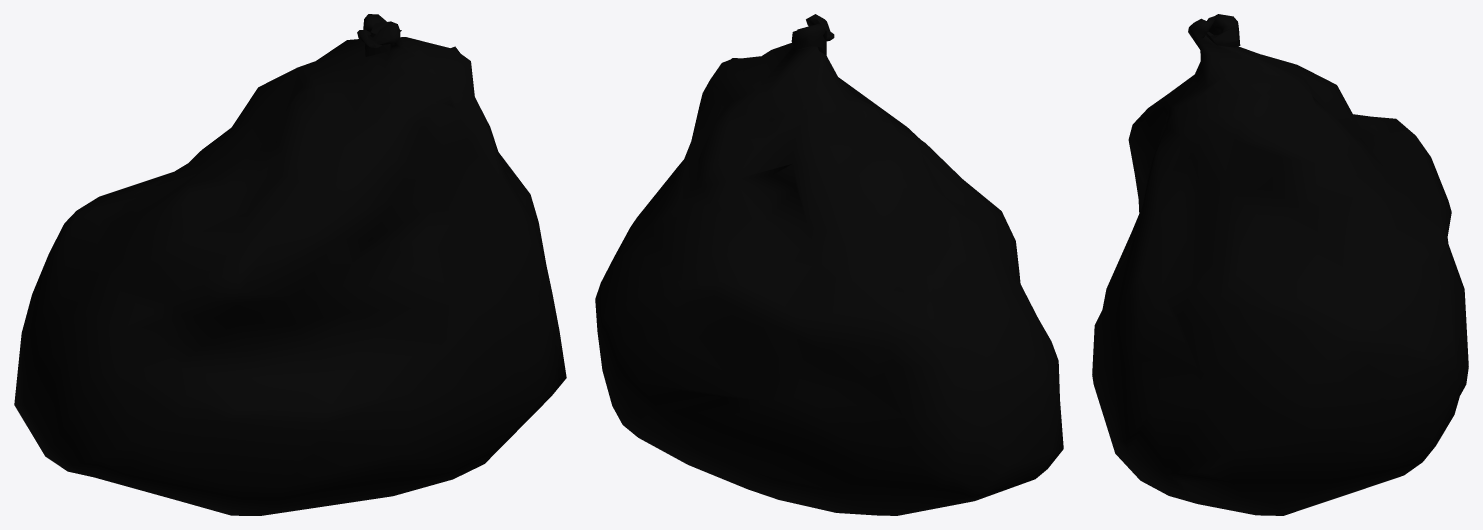
File: SM_Env_TrashBags .fbx
3 views of the same model, side by side, from view 1: azimuth 30°, elevation 25°; view 2: azimuth 150°, elevation 25°; view 3: azimuth 270°, elevation 25° (orthographic). The views are drawn at different scales.
Visible parts, largest first — view 1: Trash_Bags; view 2: Trash_Bags; view 3: Trash_Bags.
Part boxes in pixels (x1,y1,x2,y2): Trash_Bags: (14,14,566,515); Trash_Bags: (595,14,1063,515); Trash_Bags: (1092,14,1468,515).
Bounding box in the file's own units: 0.6834 × 0.6519 × 0.4786.
